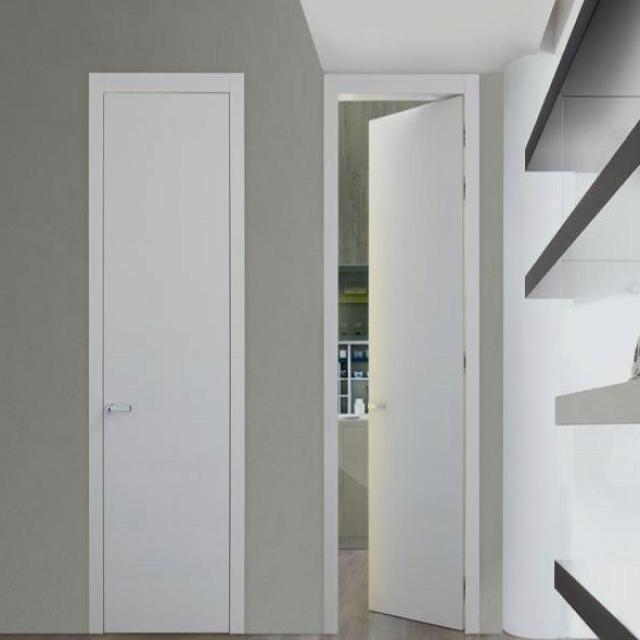door: (93, 73, 240, 634), (366, 94, 465, 631)
